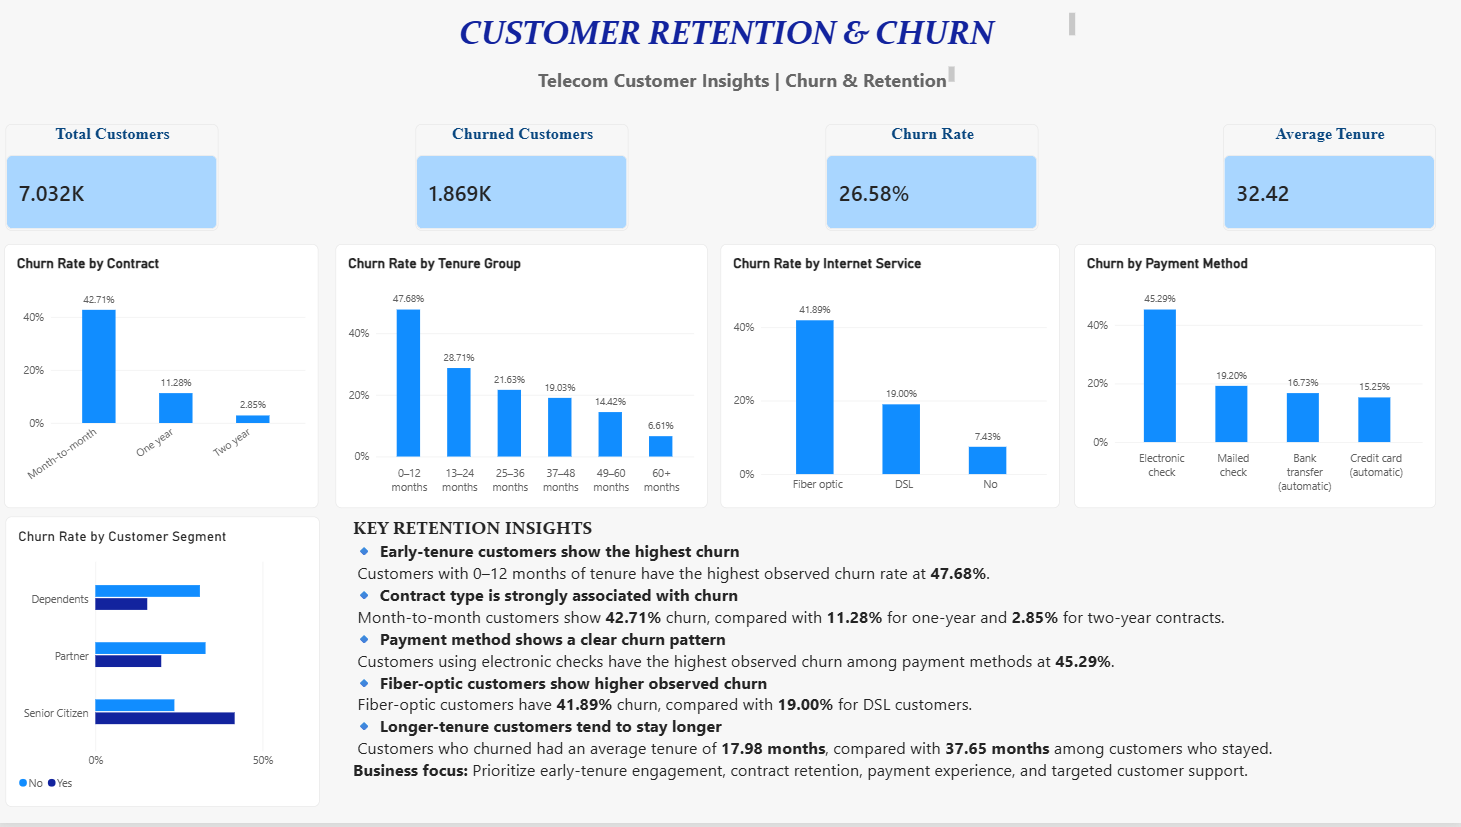

This screenshot's page, from the dashboard's own definition file:
{"tool":"powerbi","page":{"name":"Page 1","canvas":[1920,1080],"ordinal":0},"visuals":[{"type":"textbox","box":[562.1,17.2,850,55.2],"z":3},{"type":"textbox","box":[708.6,87.9,546.6,36.2],"z":4},{"type":"cardVisual","title":"Total Customers","fields":{"Data":["CountNonNull(Telco_Churn.customerID)"]},"box":[10.3,163.8,279.3,139.7],"z":5},{"type":"cardVisual","title":"Churned Customers","fields":{"Data":["CountNonNull(Telco_Churn.customerID)"]},"box":[548.3,163.8,279.3,139.7],"z":6},{"type":"cardVisual","title":"Churn Rate","fields":{"Data":["Telco_Churn.Churn Rate"]},"box":[1084.5,163.8,279.3,139.7],"z":7},{"type":"cardVisual","title":"Average Tenure","fields":{"Data":["Avg(Telco_Churn.tenure)"]},"box":[1606.9,163.8,279.3,139.7],"z":8},{"type":"clusteredColumnChart","title":"Churn Rate by Contract","fields":{"Category":["Telco_Churn.Contract"],"Y":["Telco_Churn.Churn Rate"]},"box":[8.6,320.7,412.1,346.6],"z":9},{"type":"clusteredColumnChart","title":"Churn Rate by Tenure Group","fields":{"Category":["Telco_Churn.TenureGroup"],"Y":["Telco_Churn.Churn Rate"]},"box":[443.1,320.7,487.9,346.6],"z":10},{"type":"clusteredColumnChart","title":"Churn Rate by Internet Service","fields":{"Category":["Telco_Churn.InternetService"],"Y":["Telco_Churn.Churn Rate"]},"box":[948.3,320.7,444.8,346.6],"z":11},{"type":"clusteredColumnChart","title":"Churn by Payment Method","fields":{"Category":["Telco_Churn.PaymentMethod"],"Y":["Telco_Churn.Churn Rate"]},"box":[1412.1,320.7,474.1,346.6],"z":12},{"type":"clusteredBarChart","title":"Churn Rate by Customer Segment","fields":{"Category":["SegmentAnalysis.Segment"],"Series":["SegmentAnalysis.Group"],"Y":["SegmentAnalysis.Segment Churn Rate"]},"box":[10.3,679.3,412.1,381],"z":13},{"type":"textbox","box":[465.5,679.3,1365.5,400],"z":14}]}

Visuals, with their boxes in screenshot pixels (x1, y1, x2, y2), scaled from the page's 1920x1080 canvas onto the 1461x827 screenshot:
textbox: crop(428, 13, 1075, 55)
textbox: crop(539, 67, 955, 95)
"Total Customers" cardVisual: crop(8, 125, 220, 232)
"Churned Customers" cardVisual: crop(417, 125, 630, 232)
"Churn Rate" cardVisual: crop(825, 125, 1038, 232)
"Average Tenure" cardVisual: crop(1223, 125, 1435, 232)
"Churn Rate by Contract" clusteredColumnChart: crop(7, 246, 320, 511)
"Churn Rate by Tenure Group" clusteredColumnChart: crop(337, 246, 708, 511)
"Churn Rate by Internet Service" clusteredColumnChart: crop(722, 246, 1060, 511)
"Churn by Payment Method" clusteredColumnChart: crop(1075, 246, 1435, 511)
"Churn Rate by Customer Segment" clusteredBarChart: crop(8, 520, 321, 812)
textbox: crop(354, 520, 1393, 826)
